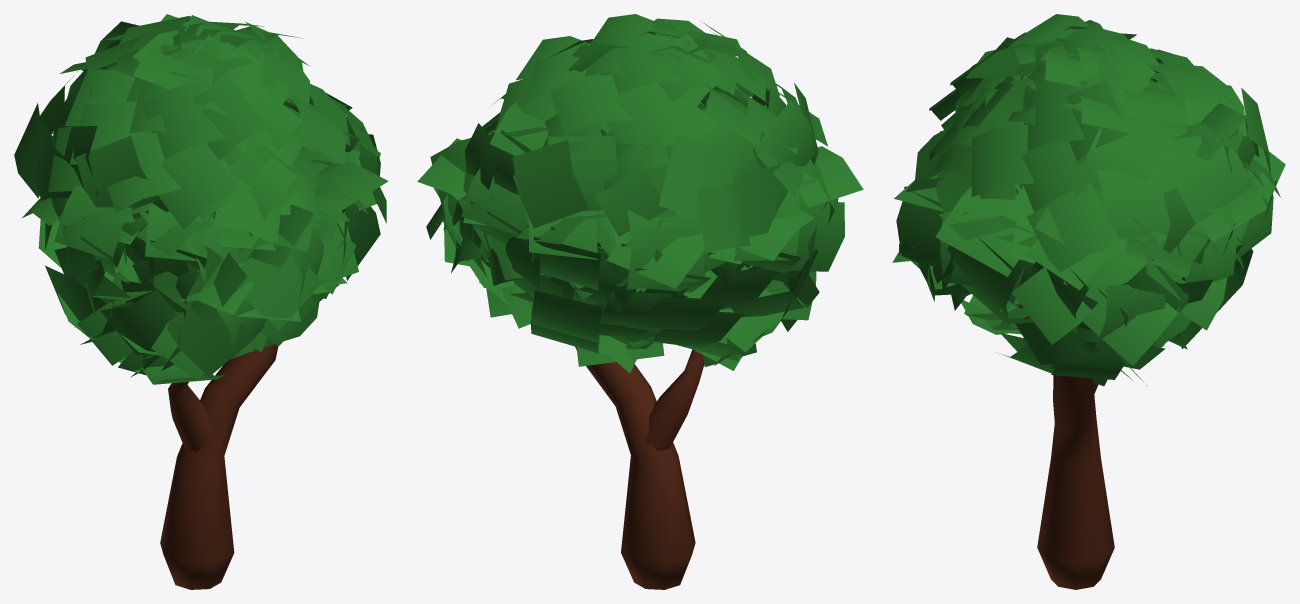
File: tree1.fbx
3 views of the same model, side by side, from view 1: azimuth 30°, elevation 25°; view 2: azimuth 150°, elevation 25°; view 3: azimuth 270°, elevation 25° (orthographic).
Visible parts, largest first — view 1: outerLeaves, inner leaves, trunk; view 2: outerLeaves, trunk, inner leaves; view 3: outerLeaves, trunk, inner leaves.
Part boxes in pixels (x1,y1,x2,y2): outerLeaves: (14, 14, 388, 384); inner leaves: (52, 62, 360, 359); trunk: (160, 344, 278, 589); outerLeaves: (417, 14, 863, 373); trunk: (575, 346, 704, 589); inner leaves: (451, 72, 785, 354); outerLeaves: (892, 14, 1285, 386); trunk: (1020, 304, 1114, 589); inner leaves: (911, 65, 1242, 349).
Bounding box in the file's own units: 2405 × 3414 × 2244.
